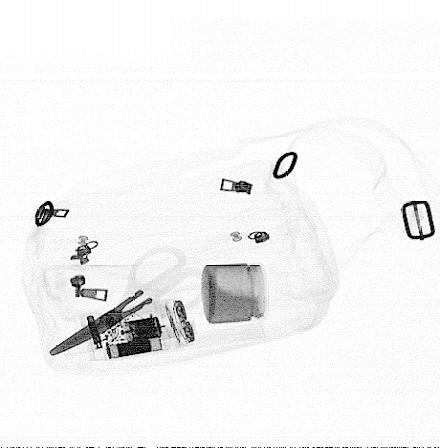Scissors: (48, 243, 214, 358)
